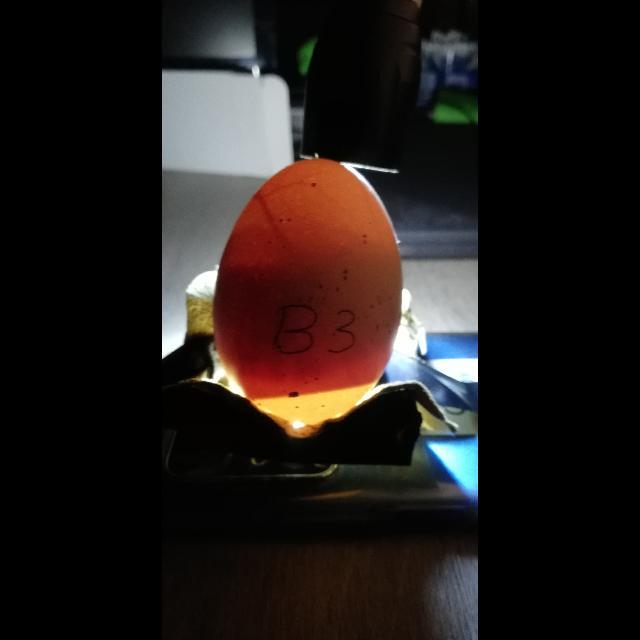Fertile: (212, 157, 408, 427)
